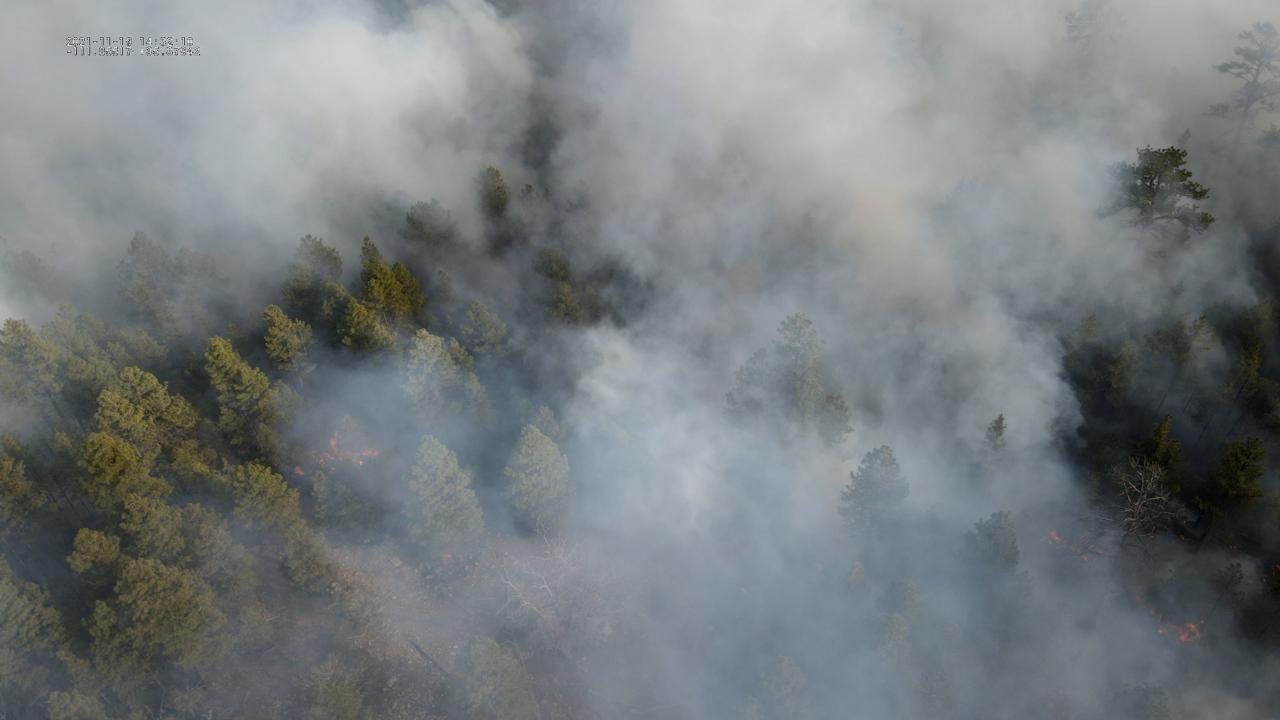fire: (315, 435, 381, 473), (1173, 622, 1204, 645), (1039, 528, 1065, 546), (293, 463, 305, 476), (1077, 553, 1090, 564), (440, 553, 453, 563)
smoke: (0, 0, 1280, 720)
